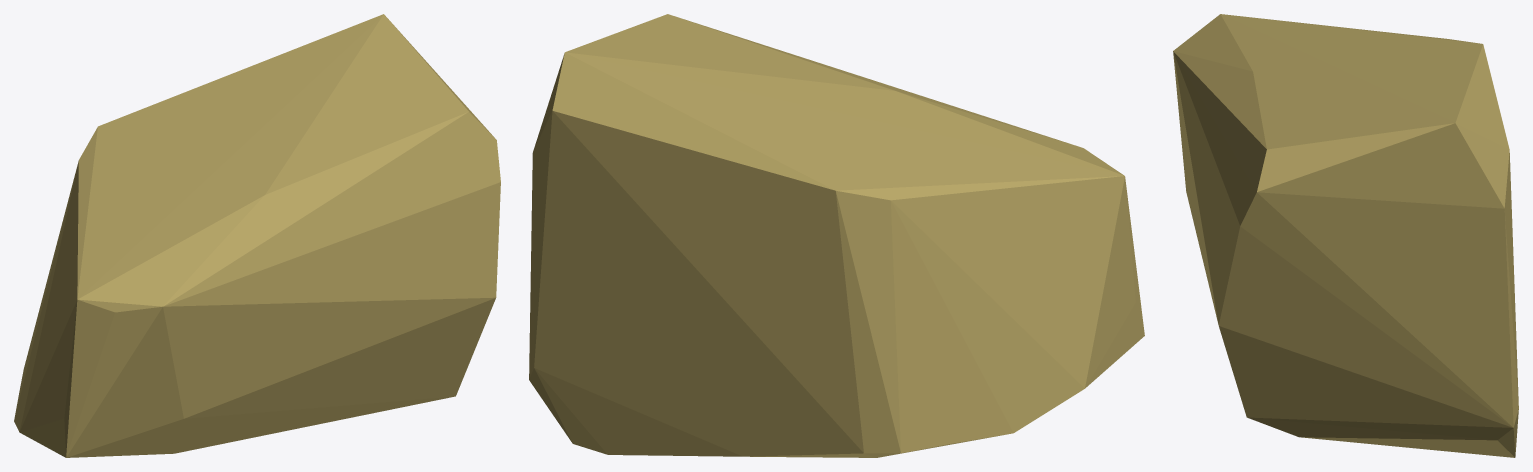
The model's file is PortalStein1.fbx.
3 renders of one model, left to right at view 1: azimuth 30°, elevation 25°; view 2: azimuth 150°, elevation 25°; view 3: azimuth 270°, elevation 25°, orthographic. The views are drawn at different scales.
Parts seen in each view (by area): view 1: s.003; view 2: s.003; view 3: s.003.
Boxes of the visible parts, x1,y1,x2,y2 form: s.003: (14, 14, 500, 457); s.003: (529, 14, 1144, 457); s.003: (1173, 14, 1518, 457).
Size of the model in its own units: 40.44 by 29.56 by 26.06.
